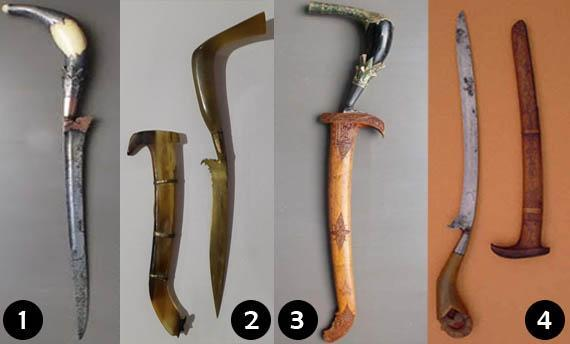facao: (2, 4, 92, 338), (307, 1, 392, 341), (192, 13, 271, 316), (448, 11, 477, 255)
